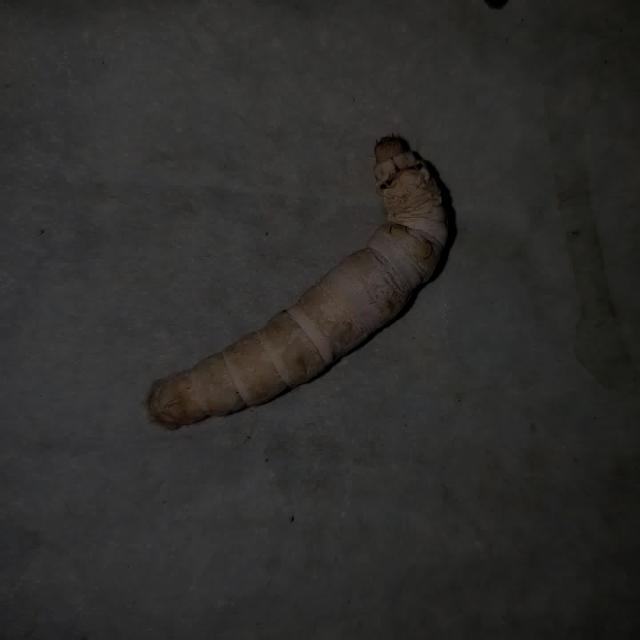Grasserie: (123, 104, 490, 477)
